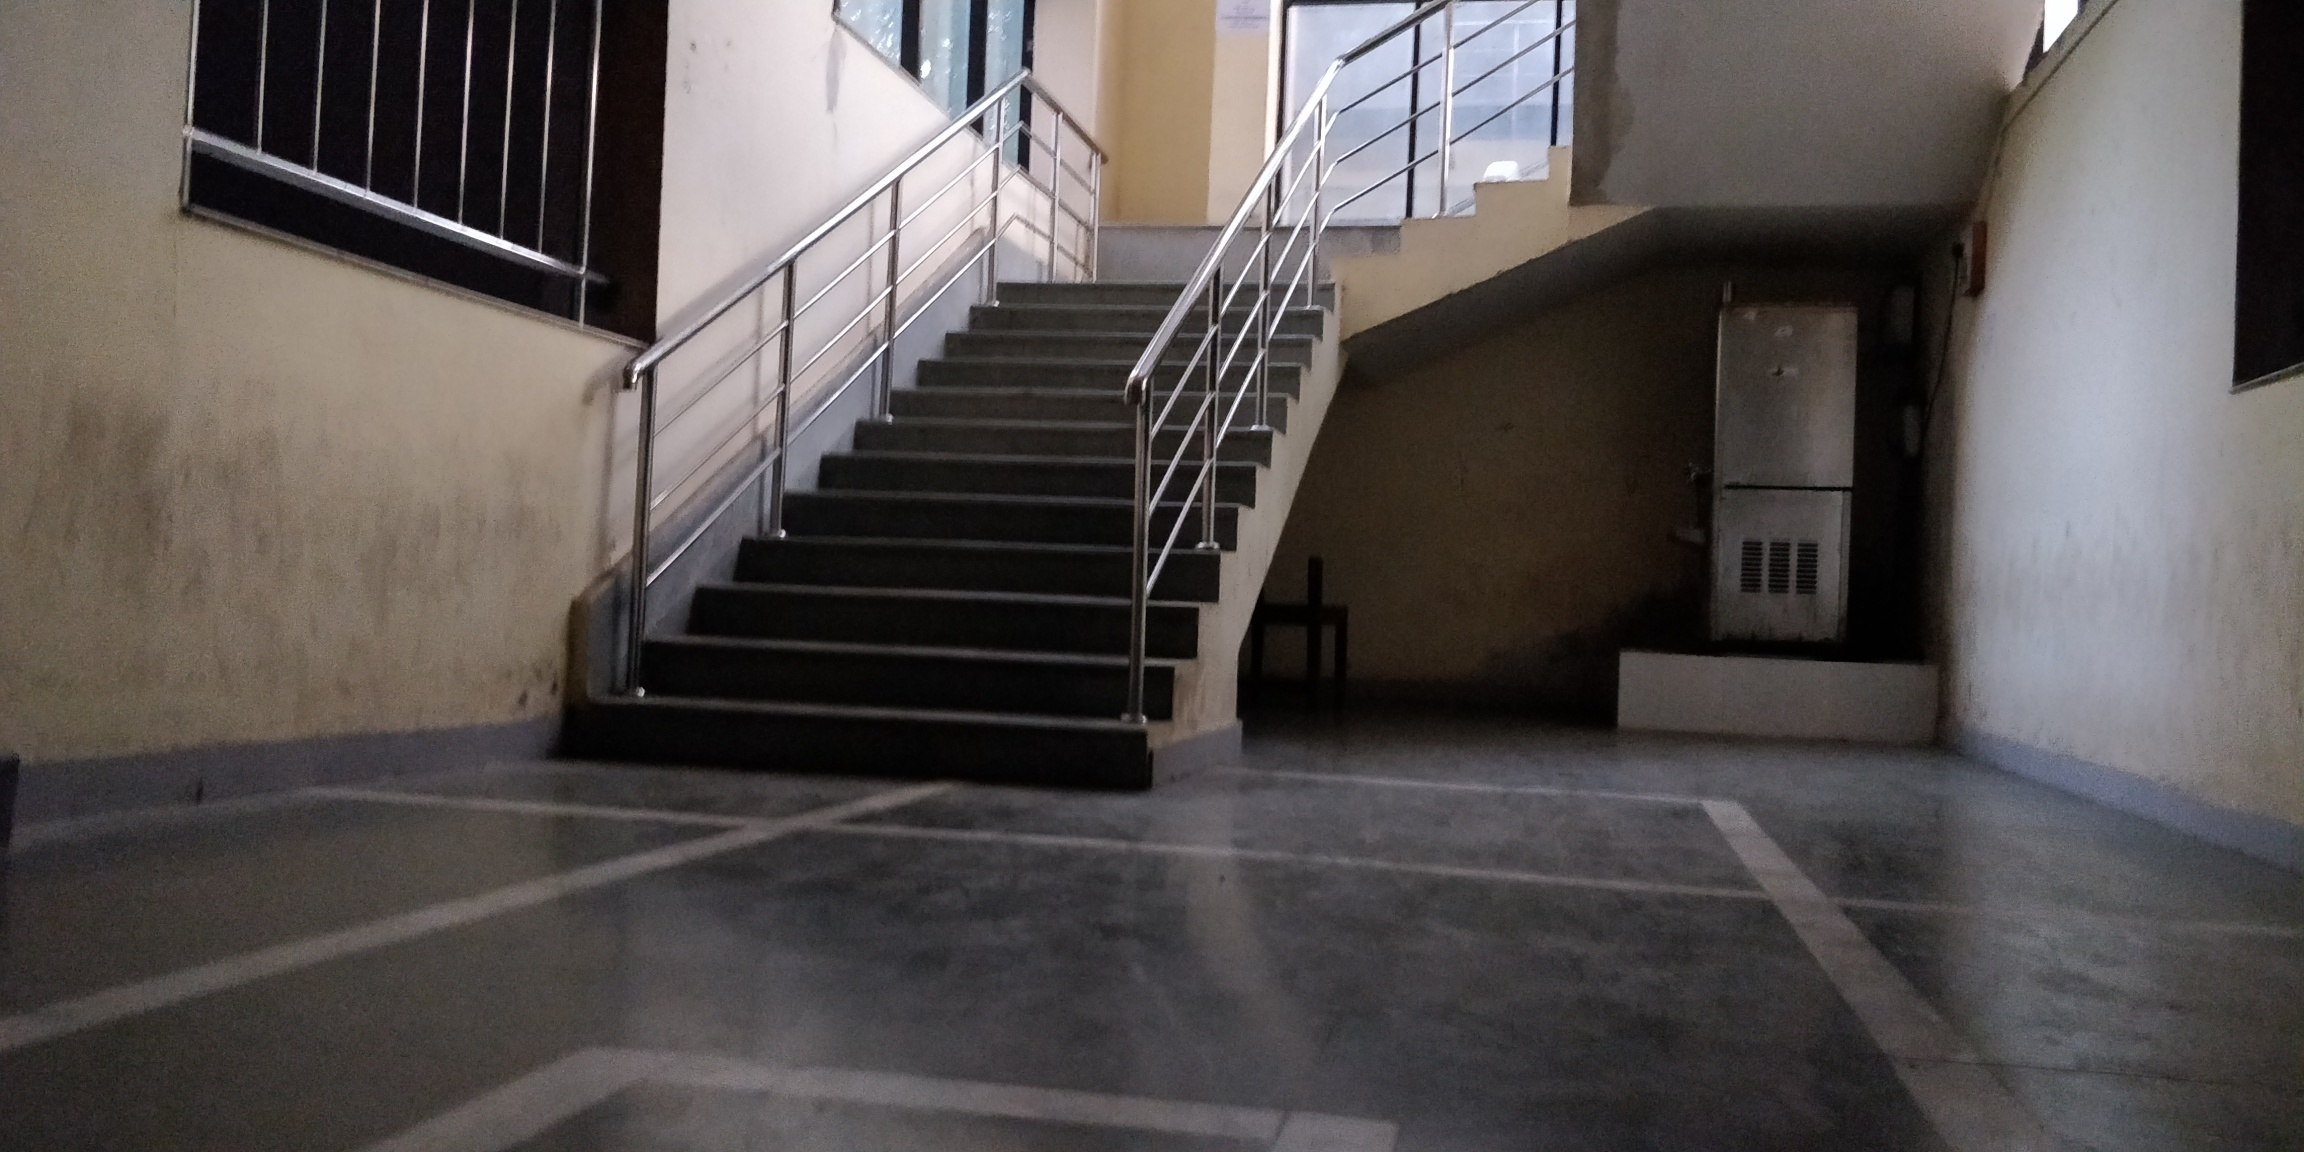stairs_up: (624, 264, 1311, 758)
